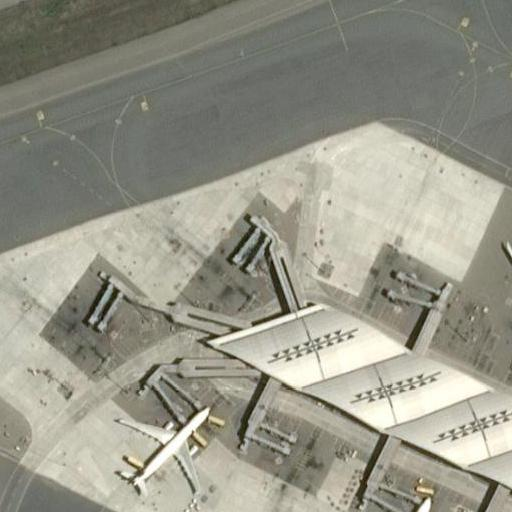Aircraft: (102, 392, 217, 502), (110, 398, 216, 501), (334, 482, 446, 512), (491, 198, 512, 353), (495, 204, 512, 356), (337, 490, 446, 512)
